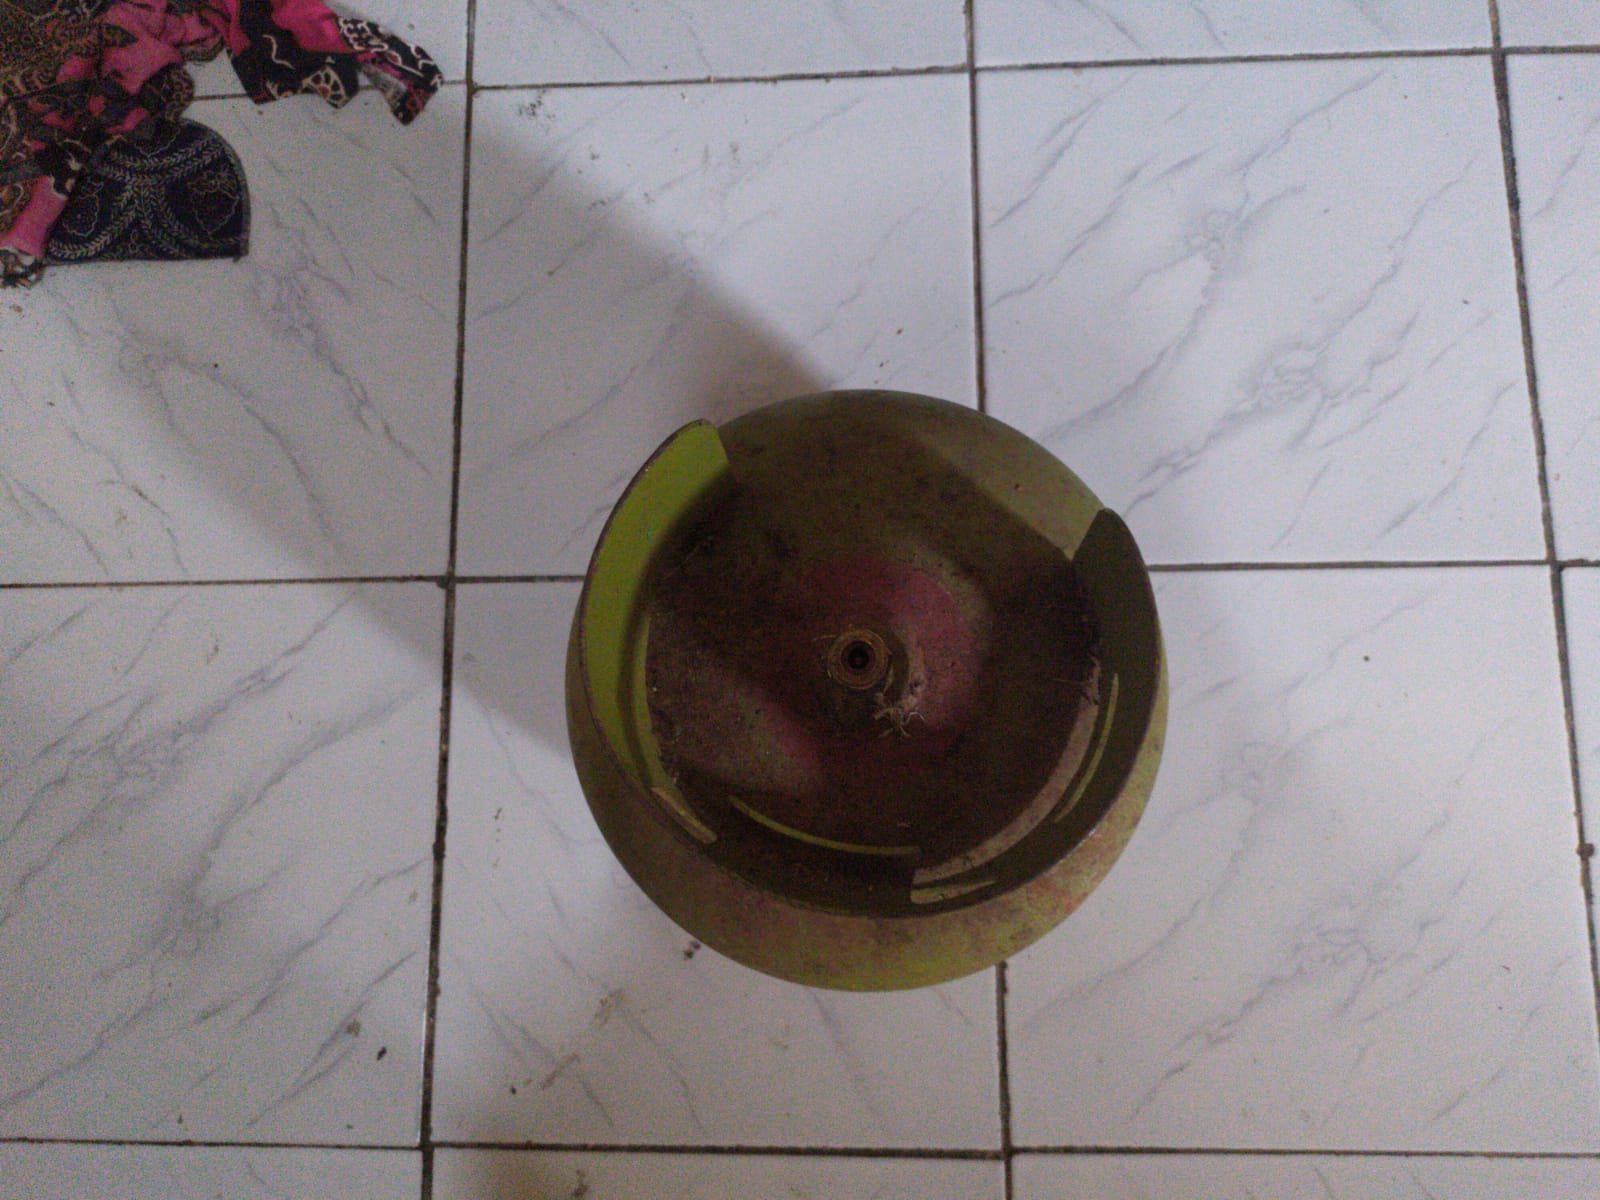gas_ijo: (558, 387, 1170, 991)
